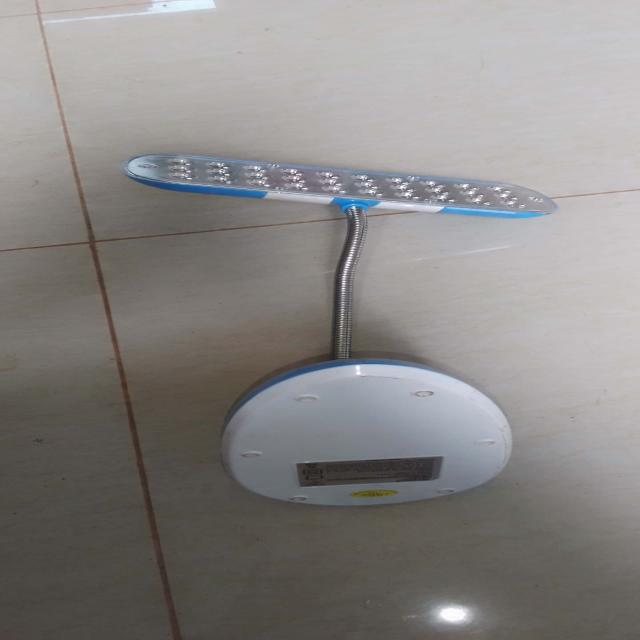Lantern: (68, 149, 604, 515)
